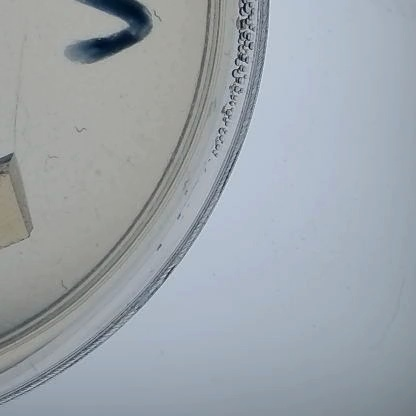worm: (45, 152, 64, 164), (152, 8, 166, 24), (72, 124, 92, 135)
